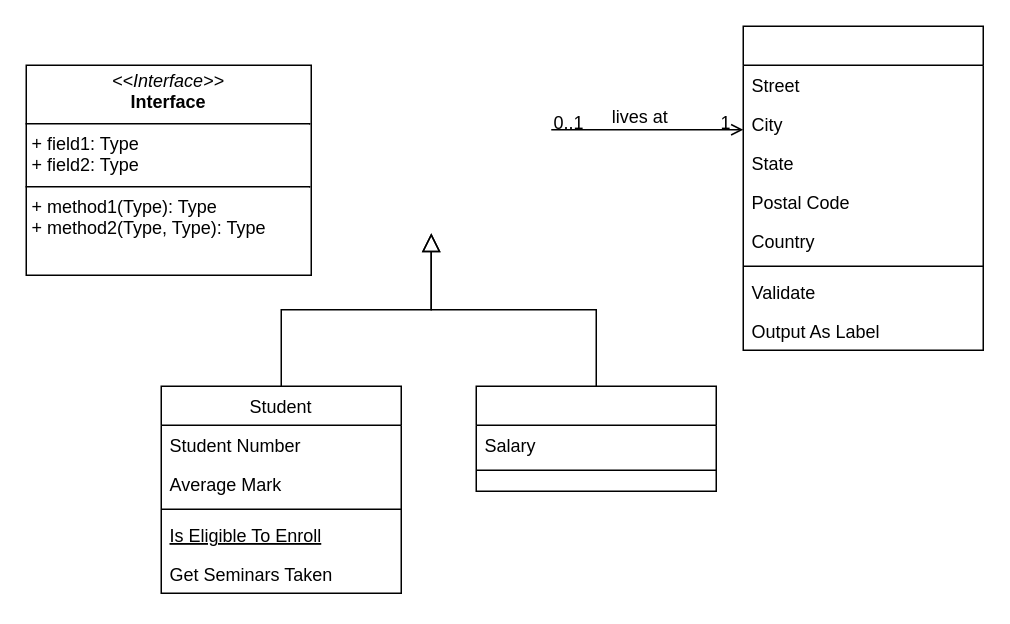
The diagram is 1010 pixels wide and 624 high, and some of its shapes have lost their labels. The shapes that lost their labels are listed below. From the top down, each one's box as (x1, y1, x2, y2) in pixels, then its label:
(742, 25, 983, 350): Address
(475, 385, 716, 491): Professor
